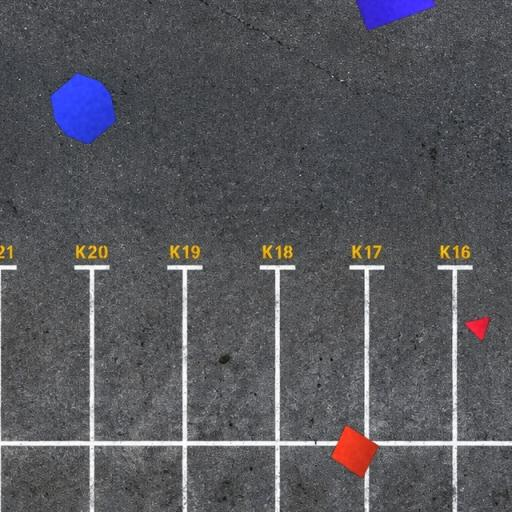BLUE_SQUARE: (341, 0, 436, 31)
RED_SQUARE: (330, 424, 380, 479)
